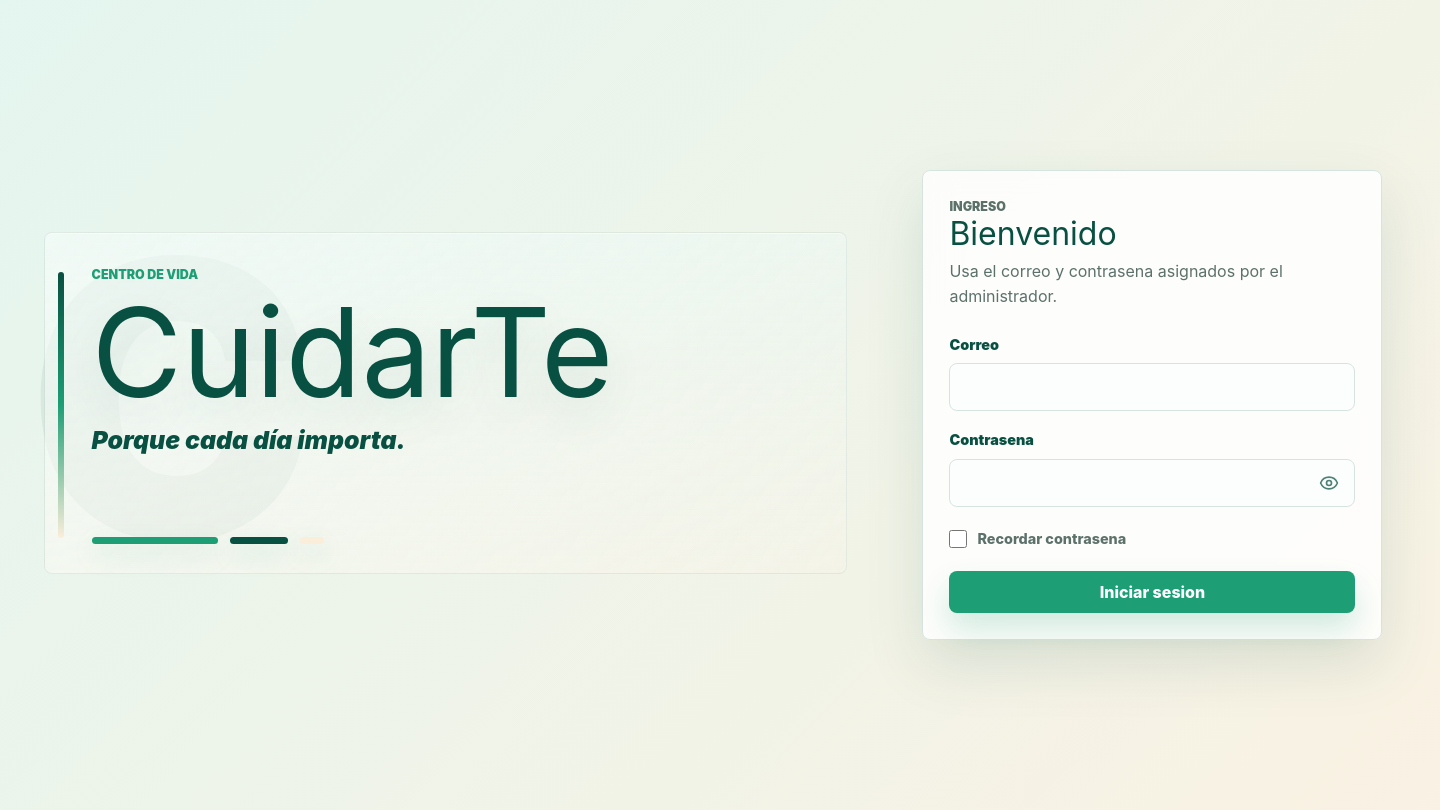
Test: App auth flow › shows an accessible error when credentials are rejected
Expected: the heading "Bienvenido" is shown, top-left (949, 214), bottom-right (1117, 253)
Type "admin@centro-demo.test" into the field labelled "Correo" at (1152, 387), box top-left (949, 363), bottom-right (1355, 411)
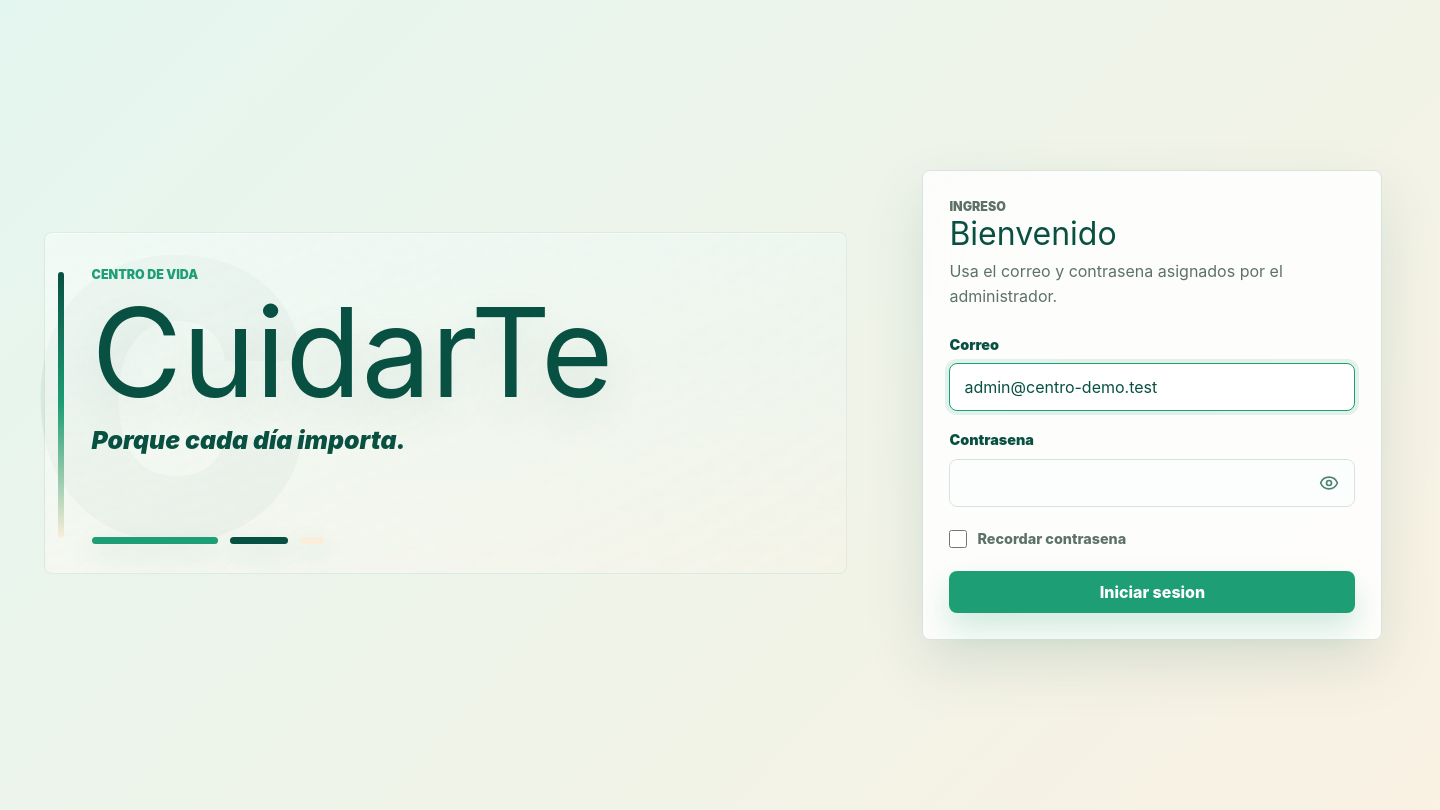
Type "incorrecta" into the password field labelled "Contrasena" at (1152, 483), box top-left (949, 459), bottom-right (1355, 507)
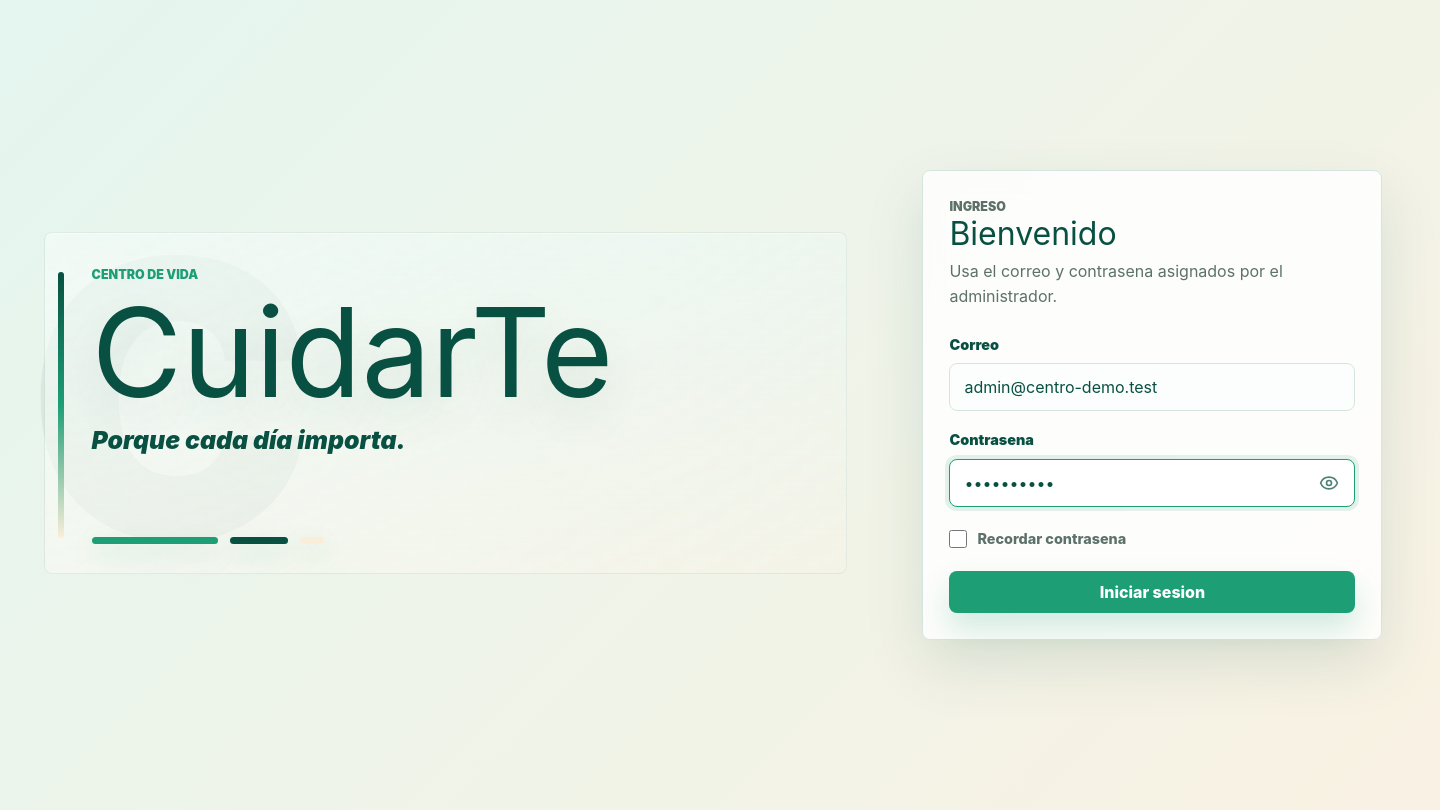
Click the button "Iniciar sesion" at (1152, 592), box top-left (949, 571), bottom-right (1355, 613)
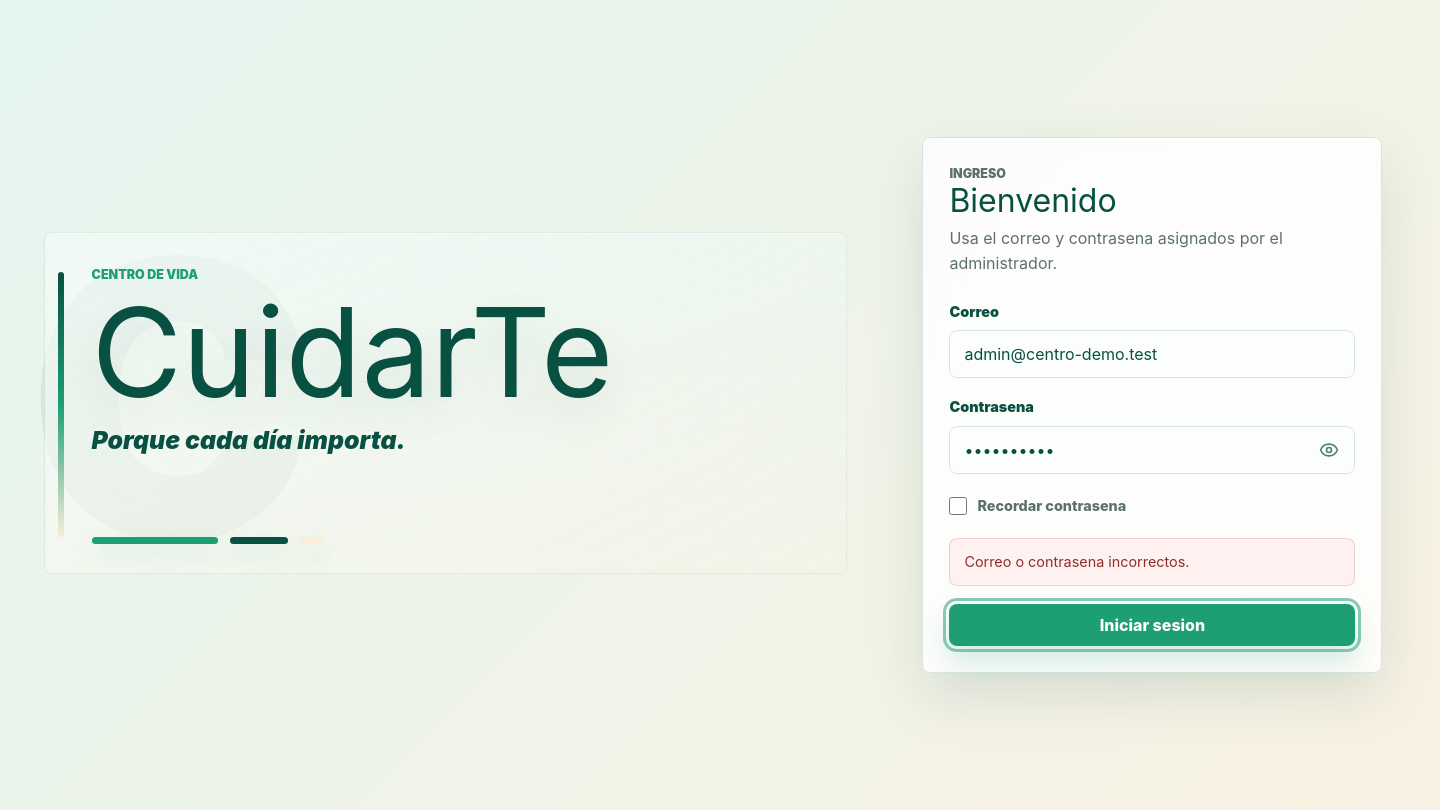
Expected: the message reads "Correo o contrasena incorrectos.", top-left (964, 553), bottom-right (1190, 570)
